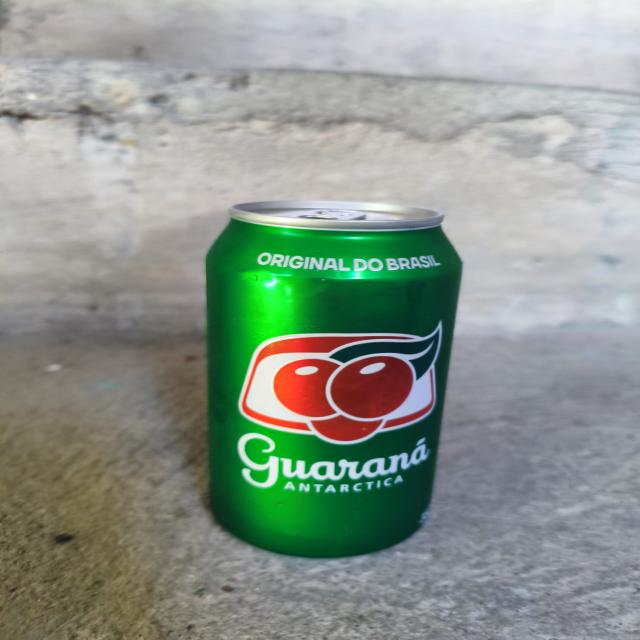Guarana: (193, 189, 462, 573)
